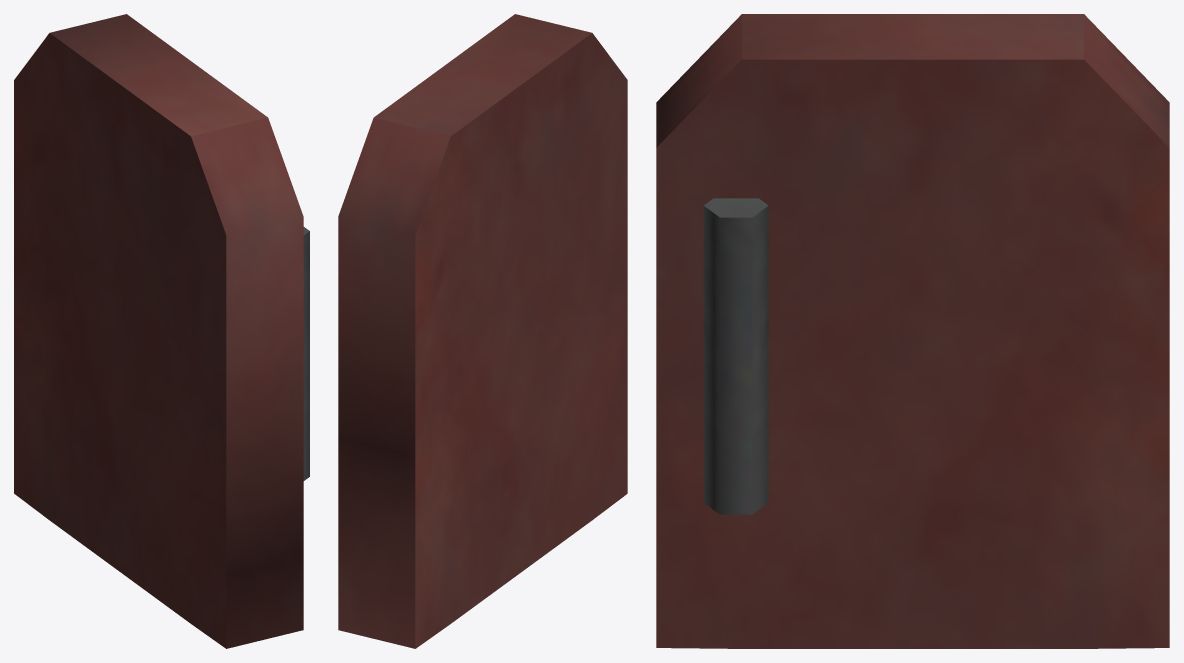
Rendered from Engine_Hatch.obj.
3 renders of one model, left to right at view 1: azimuth 30°, elevation 25°; view 2: azimuth 150°, elevation 25°; view 3: azimuth 270°, elevation 25°, orthographic. The views are drawn at different scales.
Visible parts, largest first — view 1: Cube.002; view 2: Cube.002; view 3: Cube.002.
Boxes of the visible parts, <box> form: Cube.002: <box>14,14,309,648</box>; Cube.002: <box>338,14,627,648</box>; Cube.002: <box>656,14,1169,648</box>.
Bounding box in the file's own units: 0.207 × 0.8781 × 0.693.
2 materials, 2 textured.
